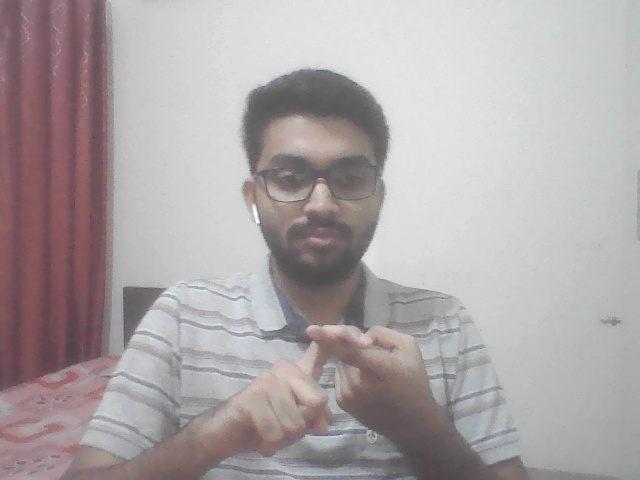friend: (181, 302, 456, 469)
